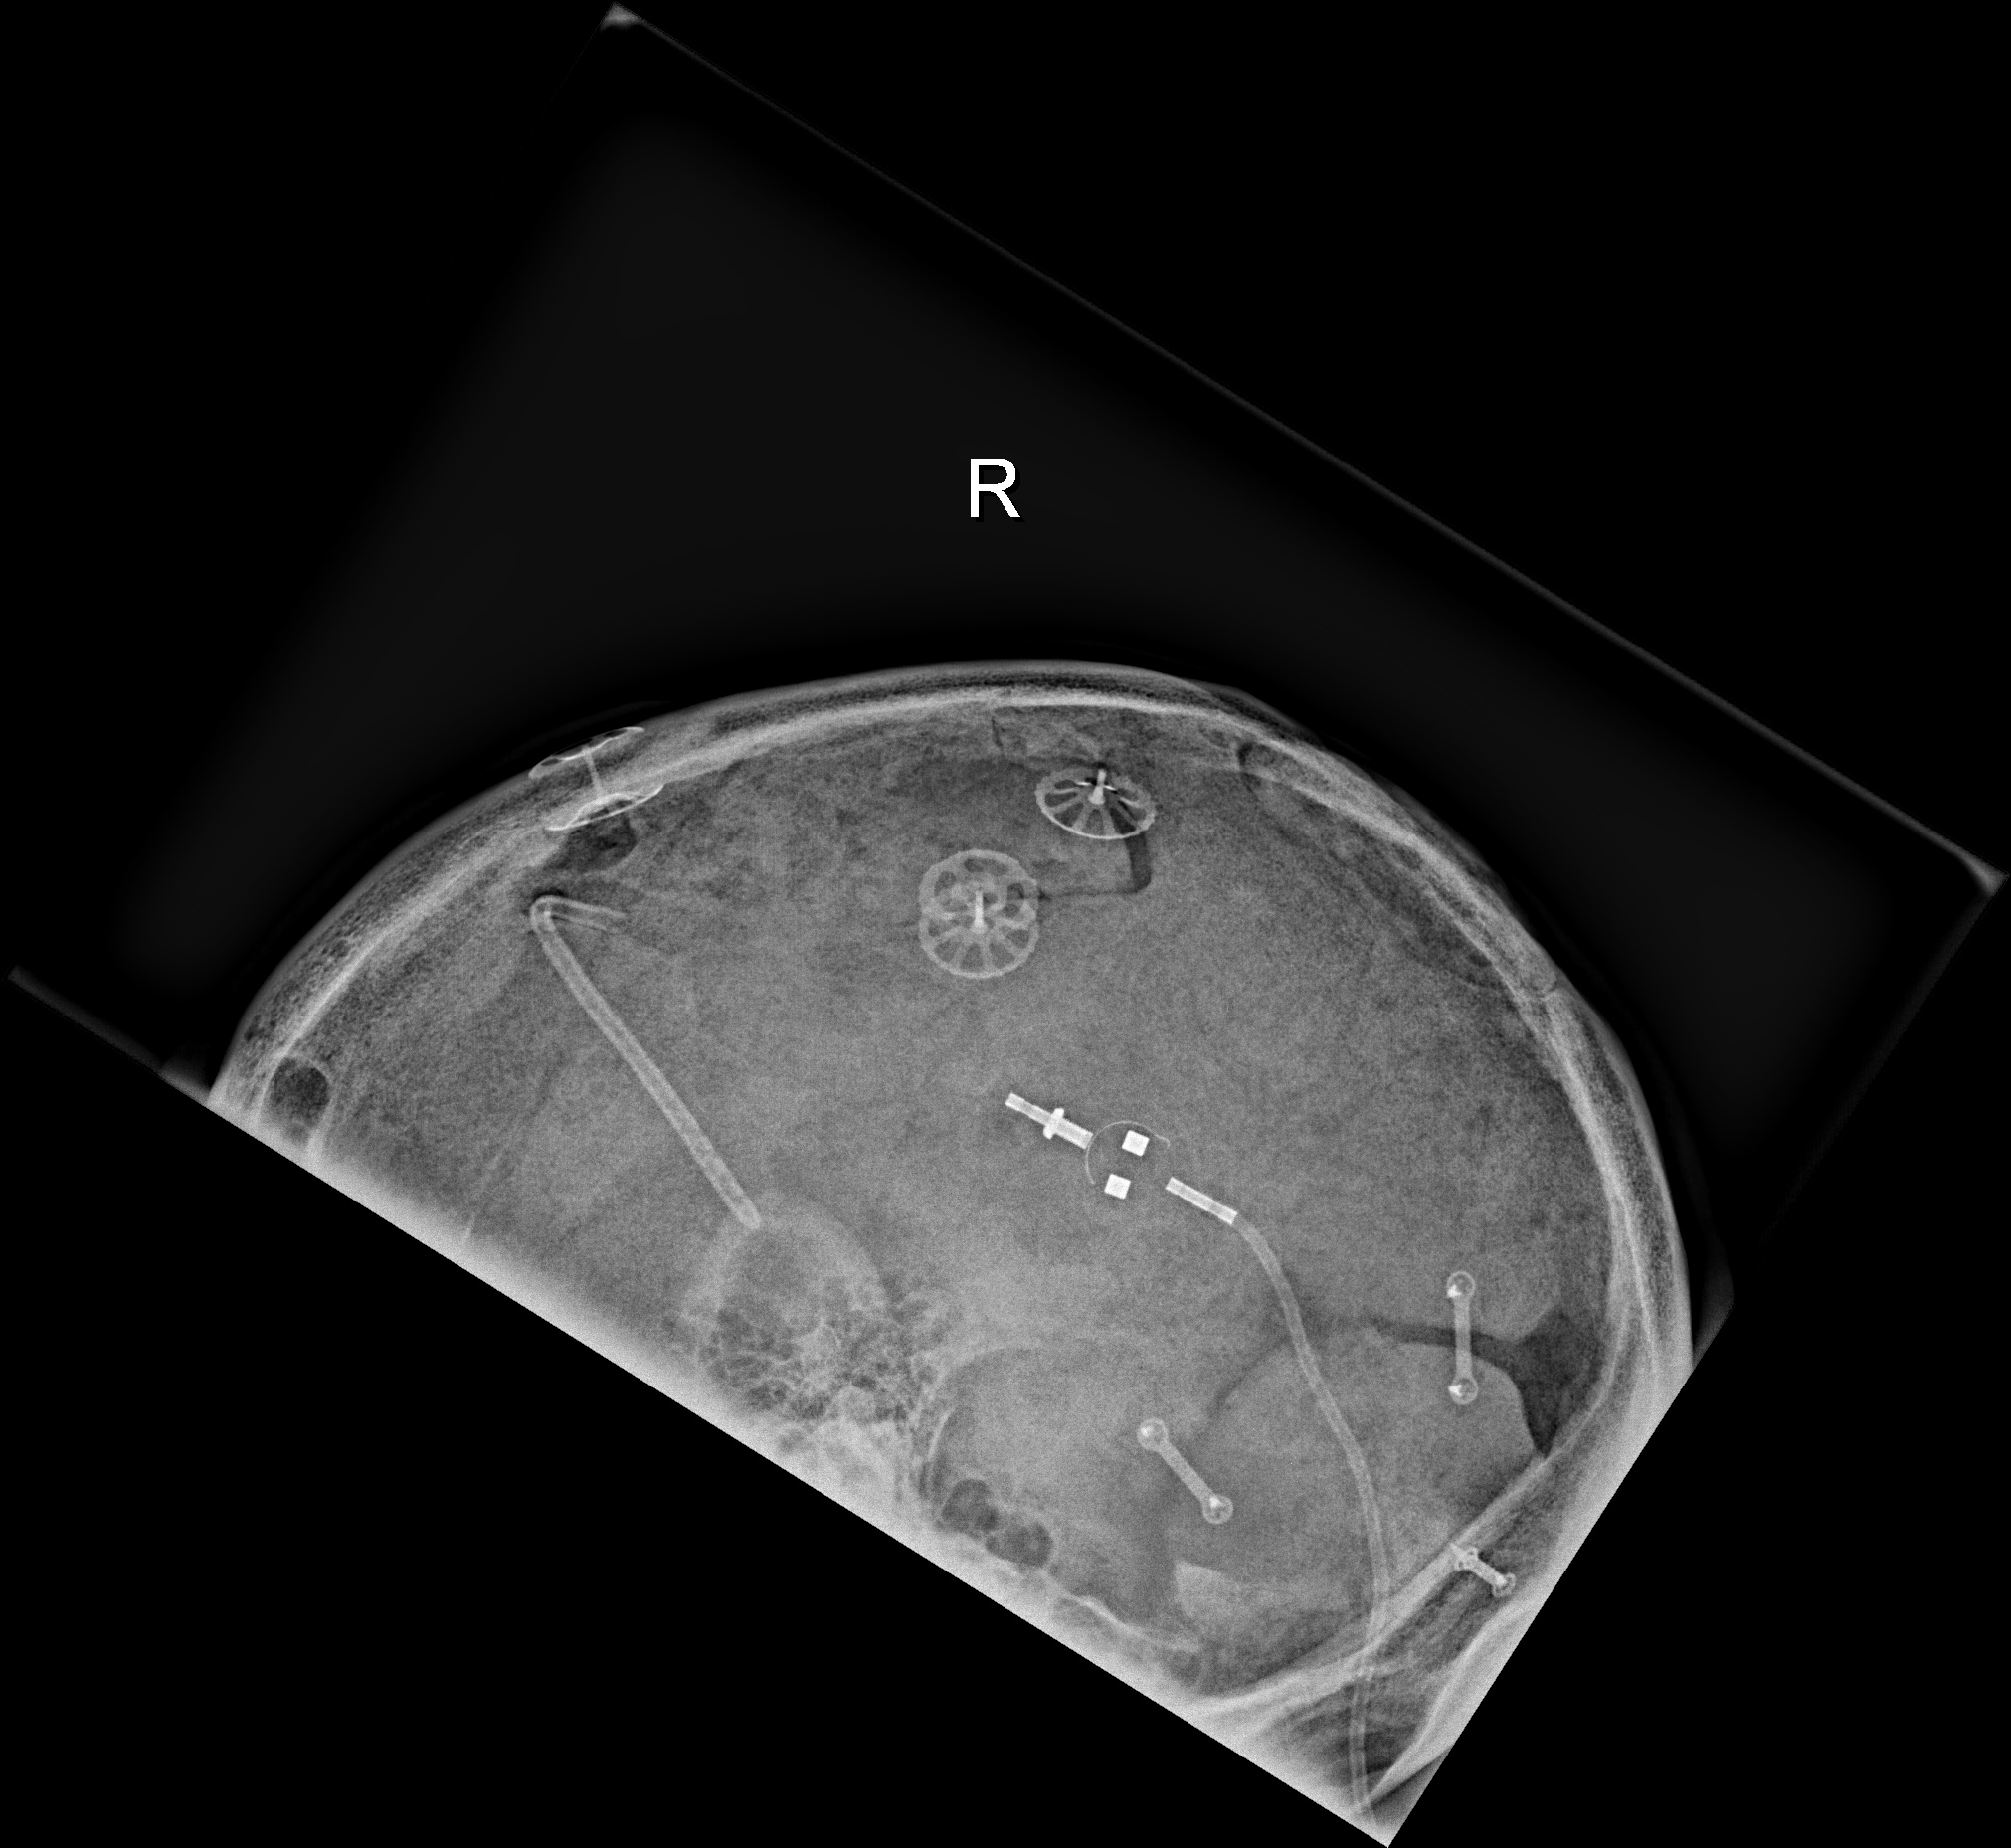Sophysa Polaris: (1072, 1097, 1200, 1240)
